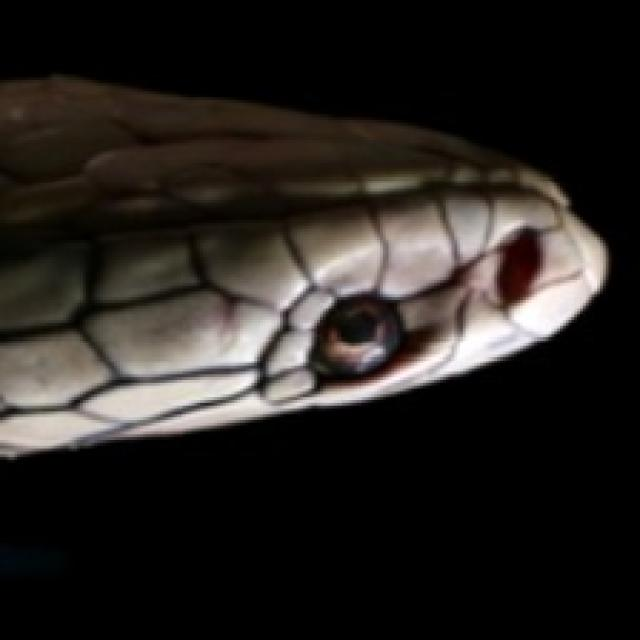king cobra: (0, 77, 603, 454)
